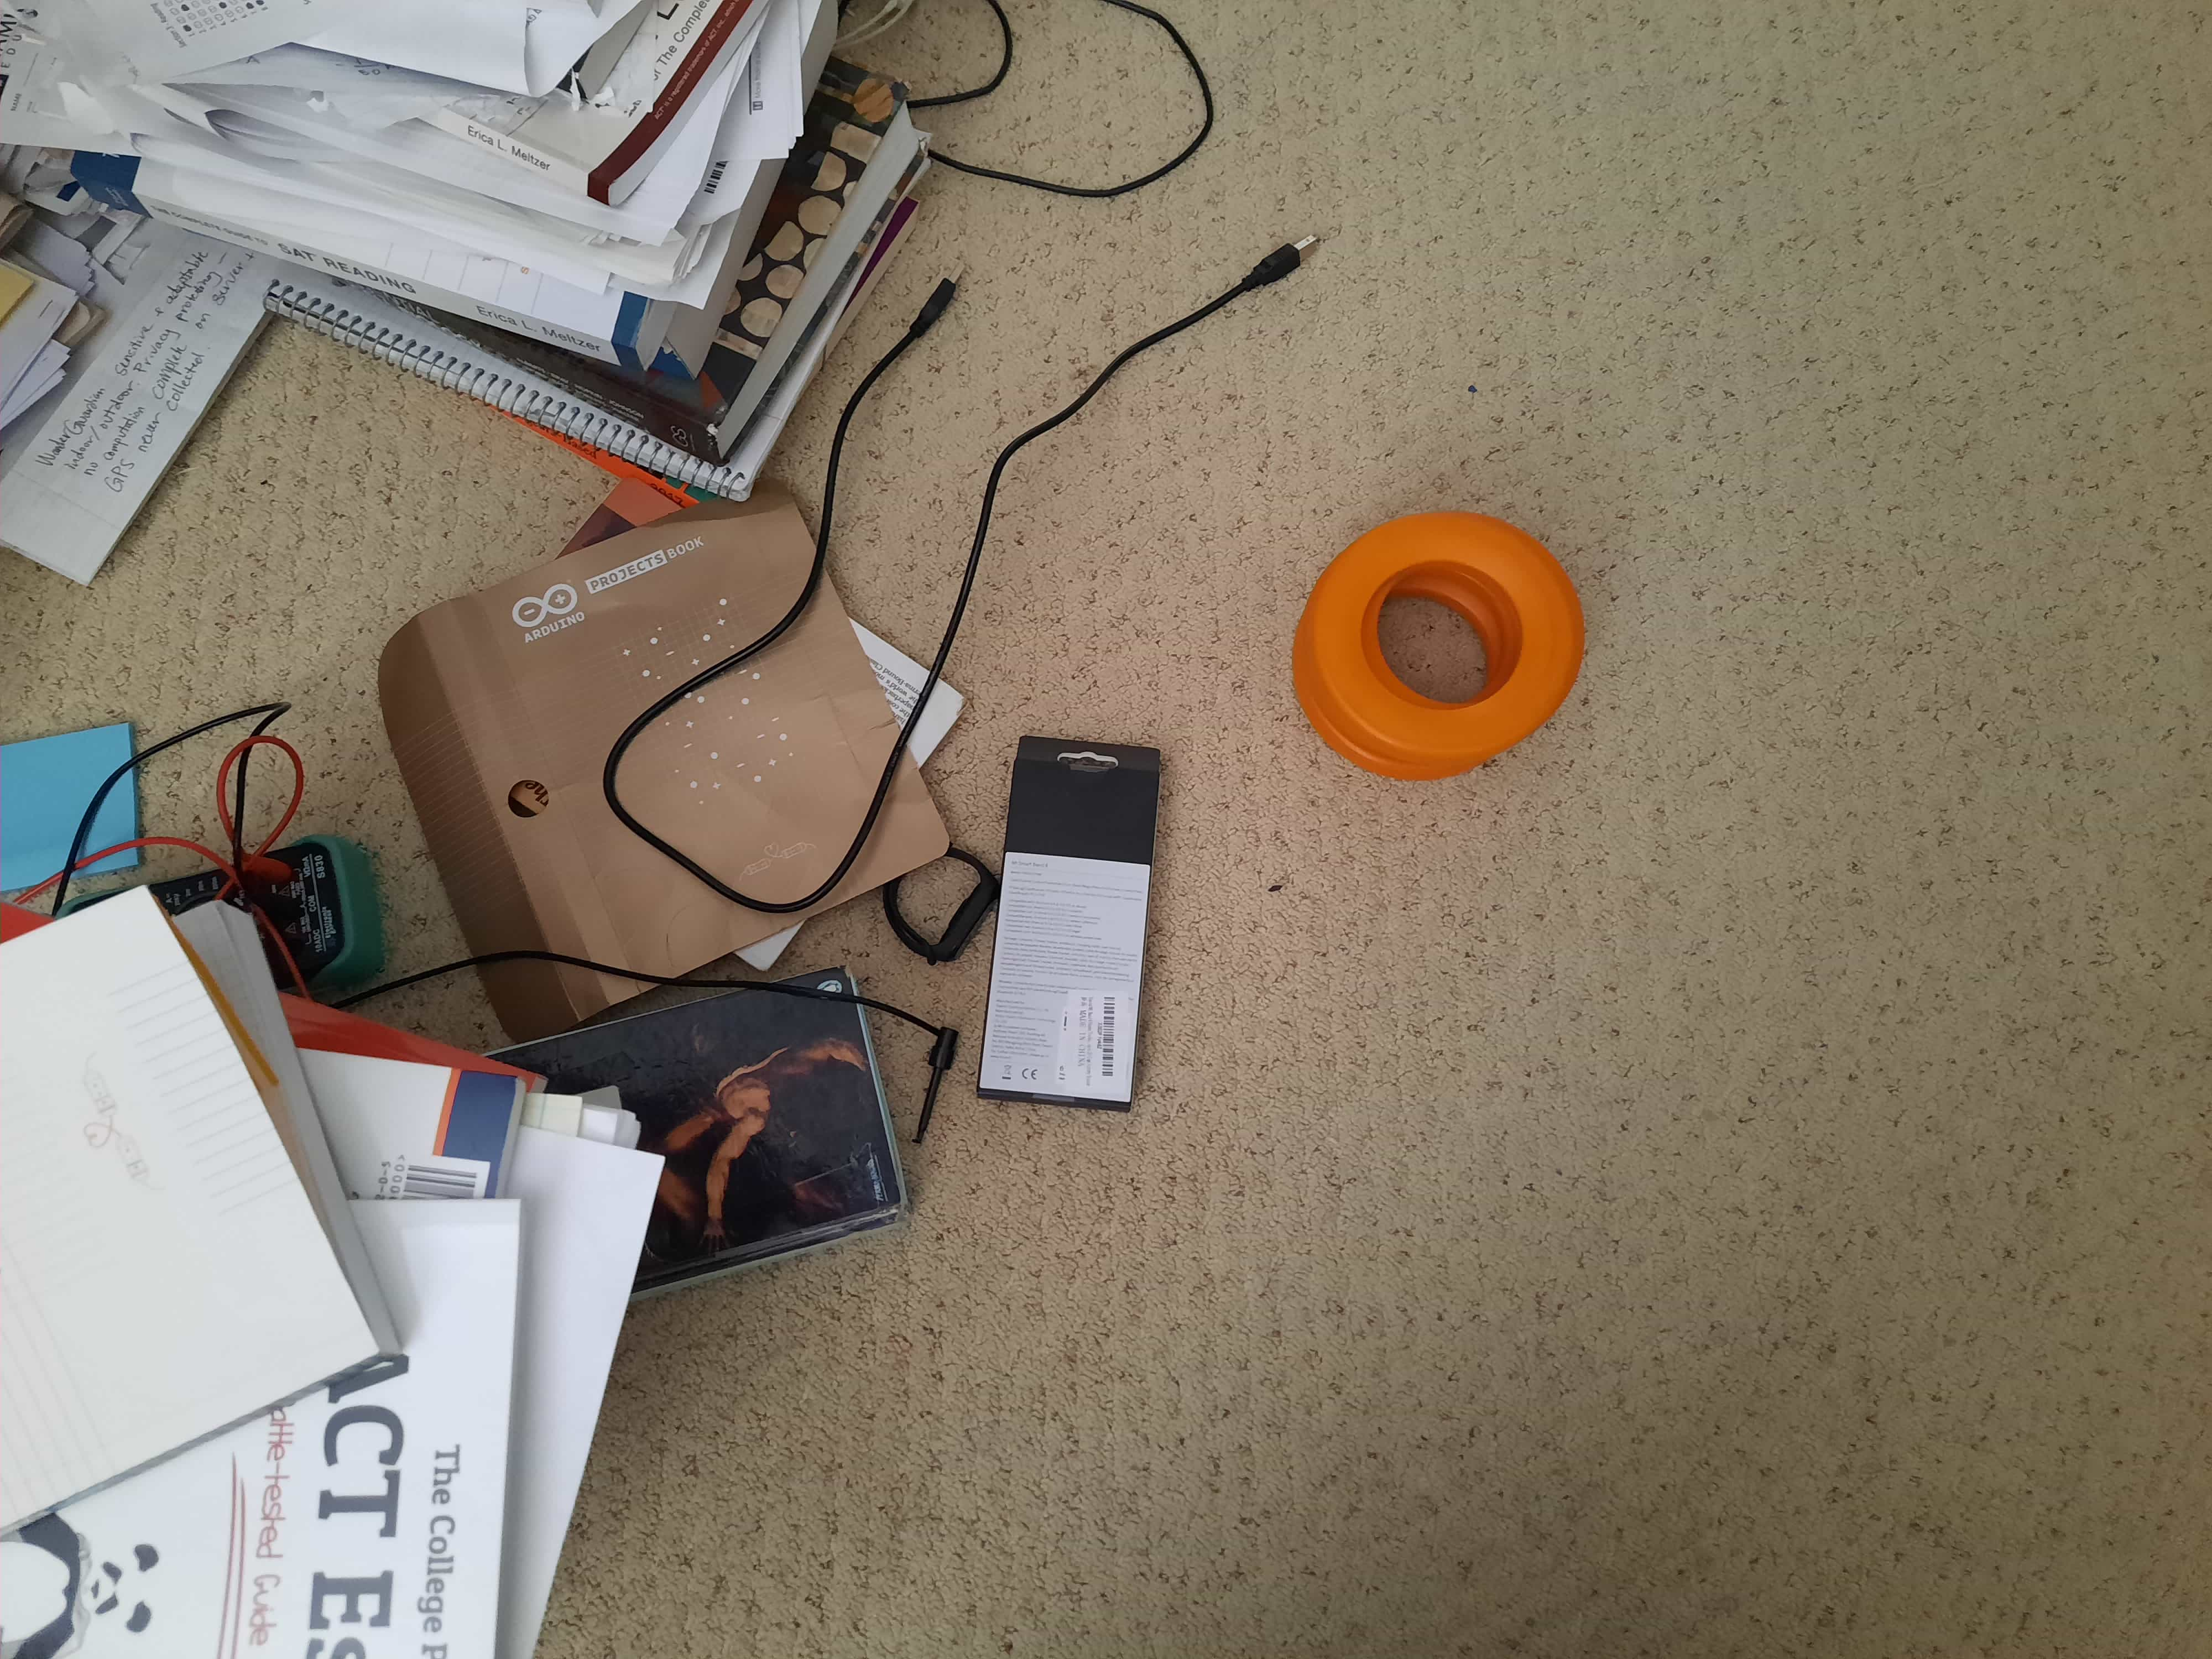FourStack: (1306, 512, 1588, 775)
